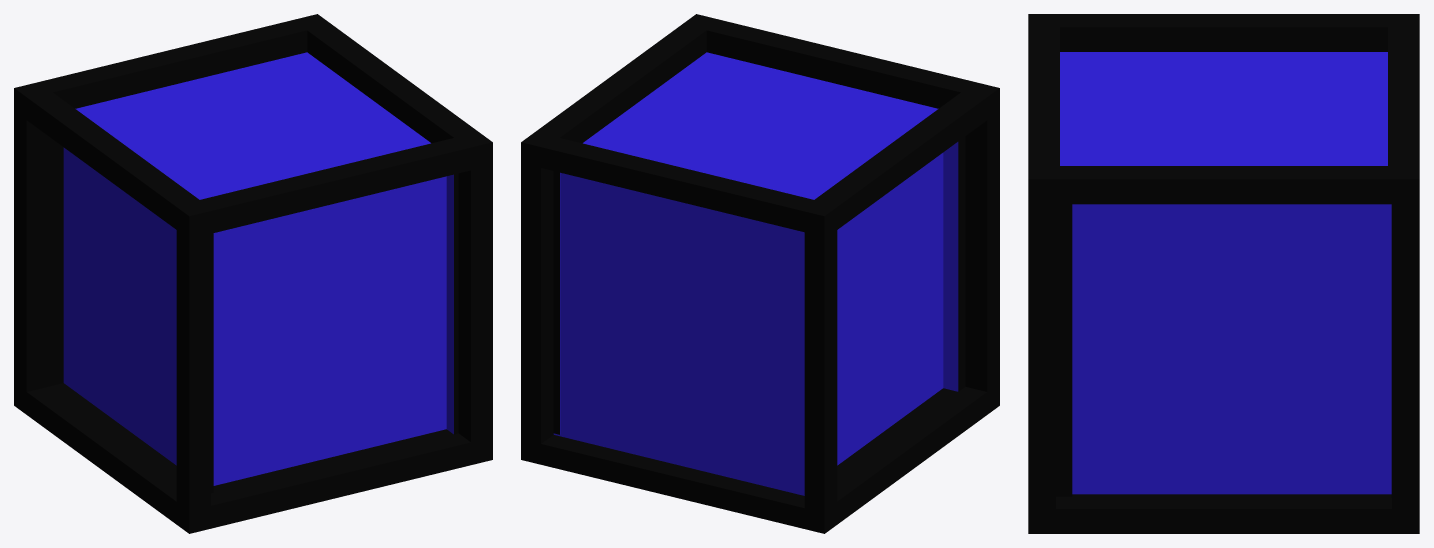
3 views of the same model, side by side, from view 1: azimuth 30°, elevation 25°; view 2: azimuth 150°, elevation 25°; view 3: azimuth 270°, elevation 25° (orthographic). The views are drawn at different scales.
Parts seen in each view (by area): view 1: Cube; view 2: Cube; view 3: Cube.
Part boxes in pixels (<box>): Cube: <box>14,14,492,533</box>; Cube: <box>521,14,999,533</box>; Cube: <box>1028,14,1419,533</box>.
Size of the model in its own units: 200 by 200 by 200.
